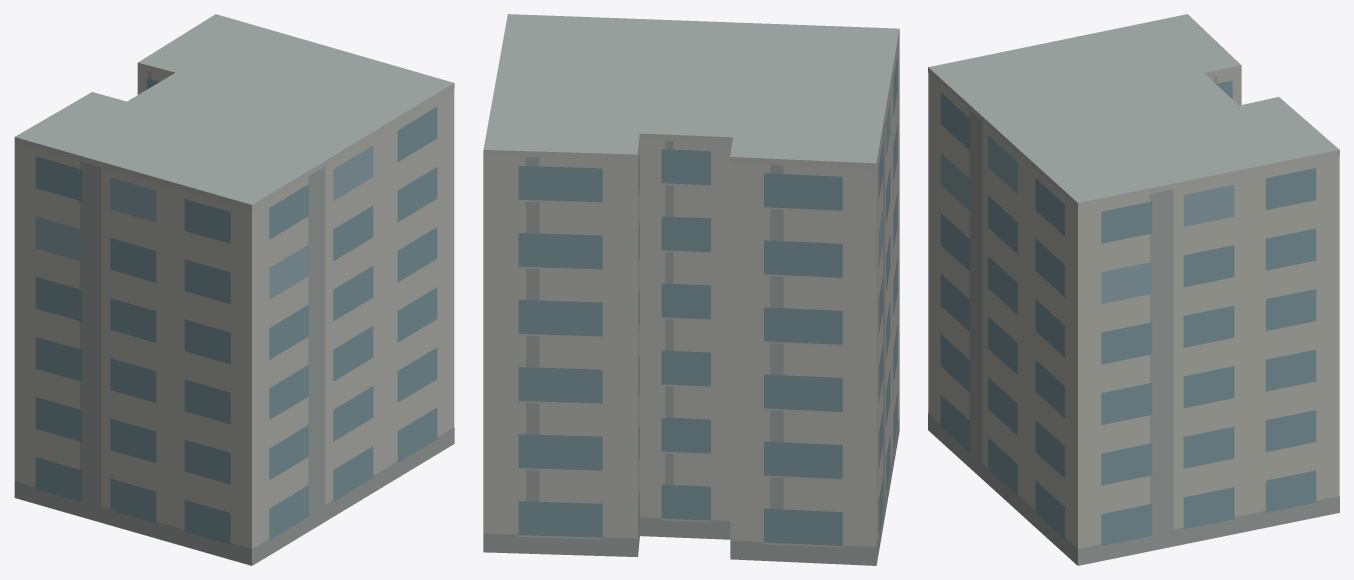
Rendered from survey-upis-33007690.glb.
3 renders of one model, left to right at view 1: azimuth 30°, elevation 25°; view 2: azimuth 150°, elevation 25°; view 3: azimuth 270°, elevation 25°, orthographic. The views are drawn at different scales.
Parts seen in each view (by area): view 1: survey-upis-33007690.tmp; view 2: survey-upis-33007690.tmp; view 3: survey-upis-33007690.tmp.
Boxes of the visible parts, x1,y1,x2,y2 form: survey-upis-33007690.tmp: [14, 14, 454, 565]; survey-upis-33007690.tmp: [483, 14, 899, 565]; survey-upis-33007690.tmp: [928, 14, 1339, 565].
Bounding box in the file's own units: 17.99 × 16.1 × 16.56.
